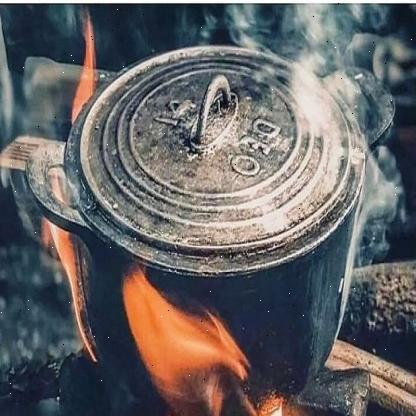fire: (120, 244, 301, 416), (46, 219, 97, 361), (61, 12, 96, 137)
smoke: (102, 4, 398, 355)
